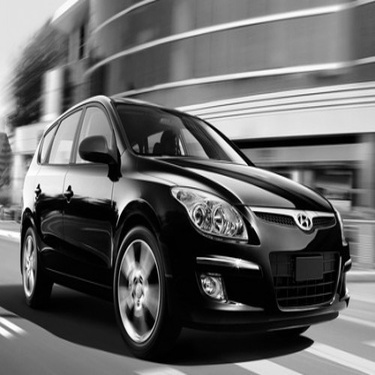car: (3, 92, 358, 358)
